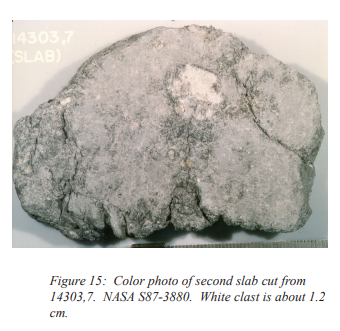Breccia: (96, 38, 319, 234), (12, 82, 229, 239), (119, 25, 259, 234)
